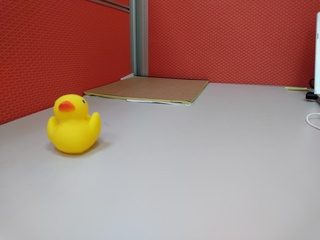duck: (41, 93, 106, 159)
